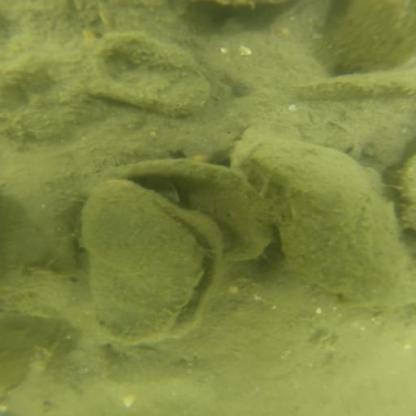3: (79, 175, 227, 348)
Oyster-Closed: (234, 137, 416, 314), (95, 156, 278, 268), (84, 28, 217, 115)
